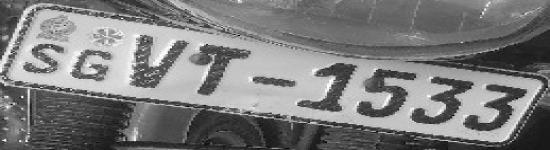-: (235, 67, 307, 98)
1: (288, 57, 371, 118)
3: (395, 70, 484, 131), (451, 77, 536, 139)
5: (346, 62, 432, 127)
G: (61, 46, 127, 91)
S: (15, 39, 79, 83)
T: (170, 36, 266, 99)
V: (113, 28, 196, 92)
